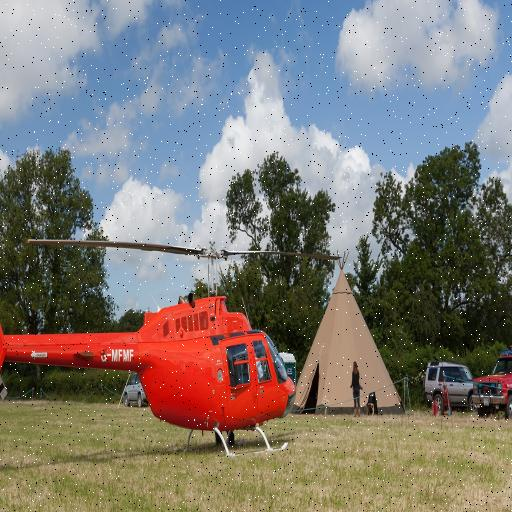helicopter: (1, 175, 305, 475)
